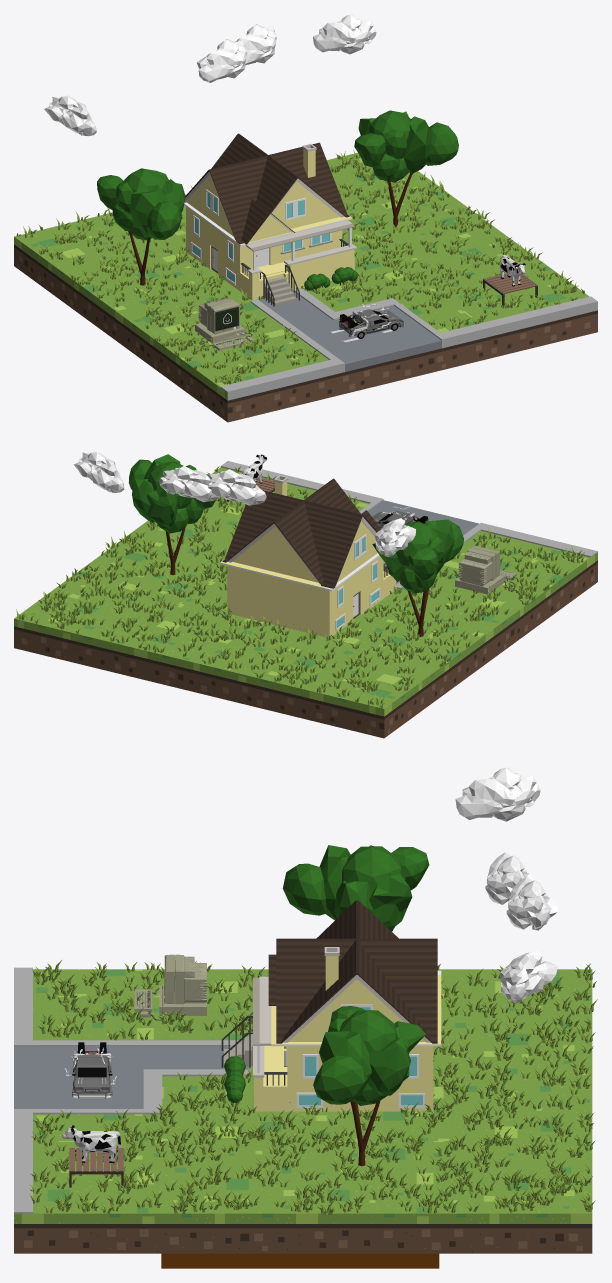
3 renders of one model, top to bottom at view 1: azimuth 30°, elevation 25°; view 2: azimuth 150°, elevation 25°; view 3: azimuth 270°, elevation 25°, orthographic. The views are drawn at different scales.
Visible parts, largest first — view 1: Cube.006, Cube.1555, Circle.012_Grass_0.192, Cube.007, tree, tree.001, OBJRANDOM_RETRO_PC, VEHICLES_DELOREAN, Cube.009; view 2: Cube.006, Cube.1555, Circle.012_Grass_0.192, Cube.007, tree.001, tree, OBJRANDOM_RETRO_PC, VEHICLES_DELOREAN; view 3: Cube.006, Circle.012_Grass_0.192, Cube.1555, tree, Cube.007, tree.001, UNDERGROUND_ART_PIECE_VAN_GOGH, OBJRANDOM_RETRO_PC, VEHICLES_DELOREAN, Cube.009, ANIMAL_VACA.
Boxes of the visible parts, x1,y1,x2,y2 form: Cube.006: [14, 152, 597, 422]; Cube.1555: [184, 133, 357, 306]; Circle.012_Grass_0.192: [16, 150, 584, 384]; Cube.007: [44, 14, 376, 136]; tree: [354, 110, 458, 227]; tree.001: [97, 168, 185, 285]; OBJRANDOM_RETRO_PC: [195, 297, 254, 350]; VEHICLES_DELOREAN: [331, 304, 405, 342]; Cube.009: [483, 273, 537, 305]; Cube.006: [14, 461, 597, 738]; Cube.1555: [220, 475, 395, 637]; Circle.012_Grass_0.192: [16, 466, 584, 708]; Cube.007: [73, 451, 415, 557]; tree.001: [372, 519, 463, 636]; tree: [128, 454, 215, 574]; OBJRANDOM_RETRO_PC: [455, 545, 516, 594]; VEHICLES_DELOREAN: [372, 506, 428, 528]; Cube.006: [14, 967, 592, 1253]; Circle.012_Grass_0.192: [29, 960, 597, 1214]; Cube.1555: [221, 900, 441, 1111]; tree: [313, 1006, 425, 1166]; Cube.007: [455, 767, 557, 1003]; tree.001: [282, 845, 429, 931]; UNDERGROUND_ART_PIECE_VAN_GOGH: [161, 1253, 439, 1268]; OBJRANDOM_RETRO_PC: [134, 954, 206, 1020]; VEHICLES_DELOREAN: [64, 1042, 116, 1098]; Cube.009: [69, 1147, 123, 1187]; ANIMAL_VACA: [62, 1125, 121, 1163].
Bounding box in the file's own units: 4071 × 2301 × 4040.
39 materials, 4 textured.
